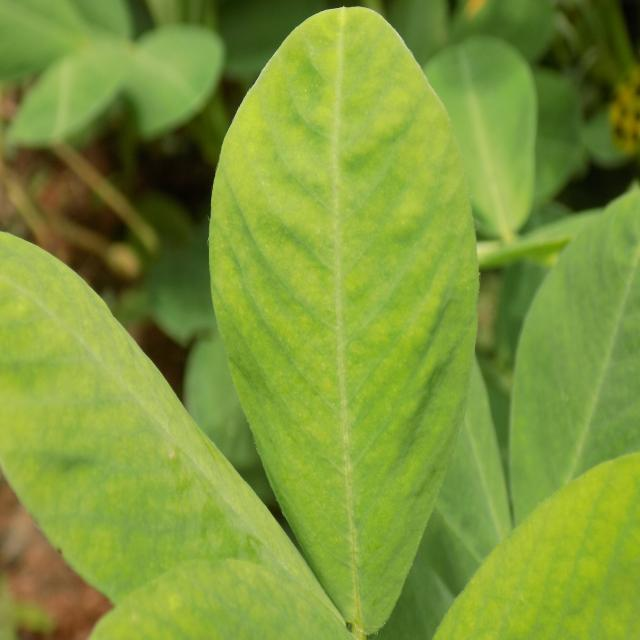Ground nut_healthy: (209, 8, 480, 640)
